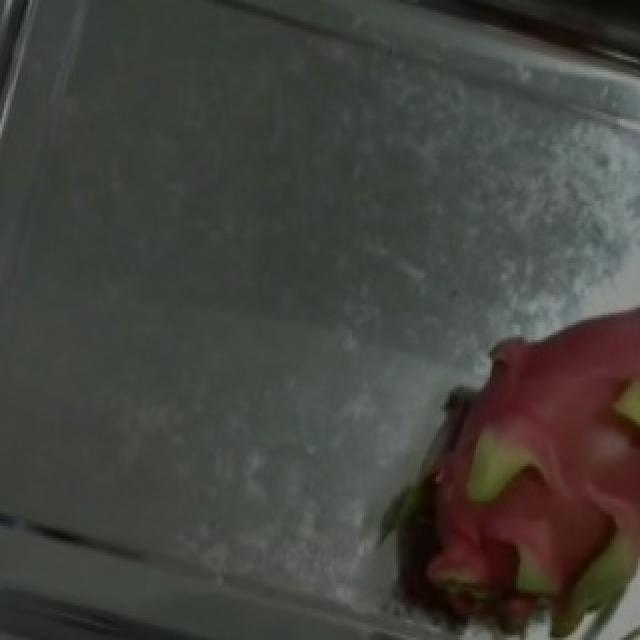fruit: (334, 258, 640, 640)
